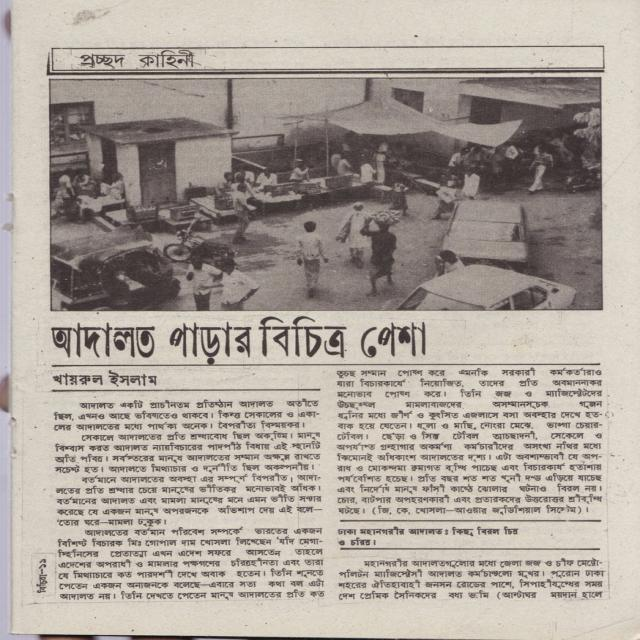image: (49, 76, 603, 311)
page number: (38, 558, 47, 569)
paragraph: (336, 365, 604, 520), (58, 526, 325, 602), (55, 474, 324, 527), (53, 430, 322, 475), (337, 558, 608, 601), (52, 398, 322, 432)
text: (52, 370, 157, 388), (34, 574, 47, 594)
title: (51, 315, 432, 363), (337, 521, 522, 550), (77, 49, 200, 71)
